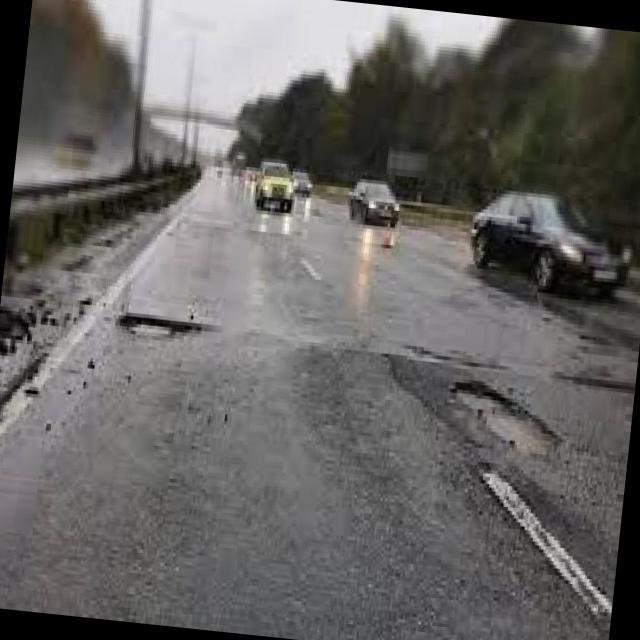Pothole: (392, 357, 558, 465), (120, 315, 215, 332)
